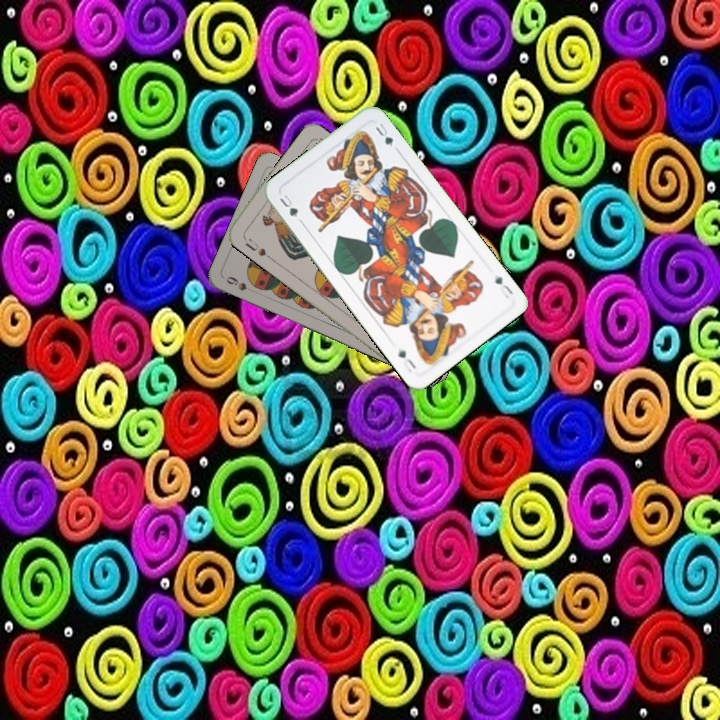GU: (275, 190, 304, 225), (491, 271, 516, 301)
S9: (222, 272, 257, 295)
SU: (239, 232, 269, 259)
